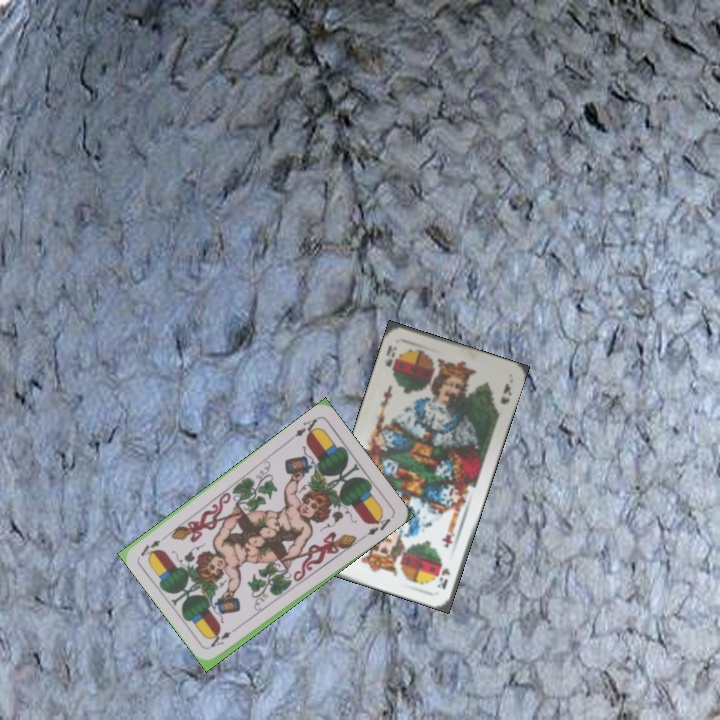EA: (286, 413, 322, 443), (206, 622, 242, 650)
SK: (381, 341, 400, 379), (433, 564, 453, 592)
